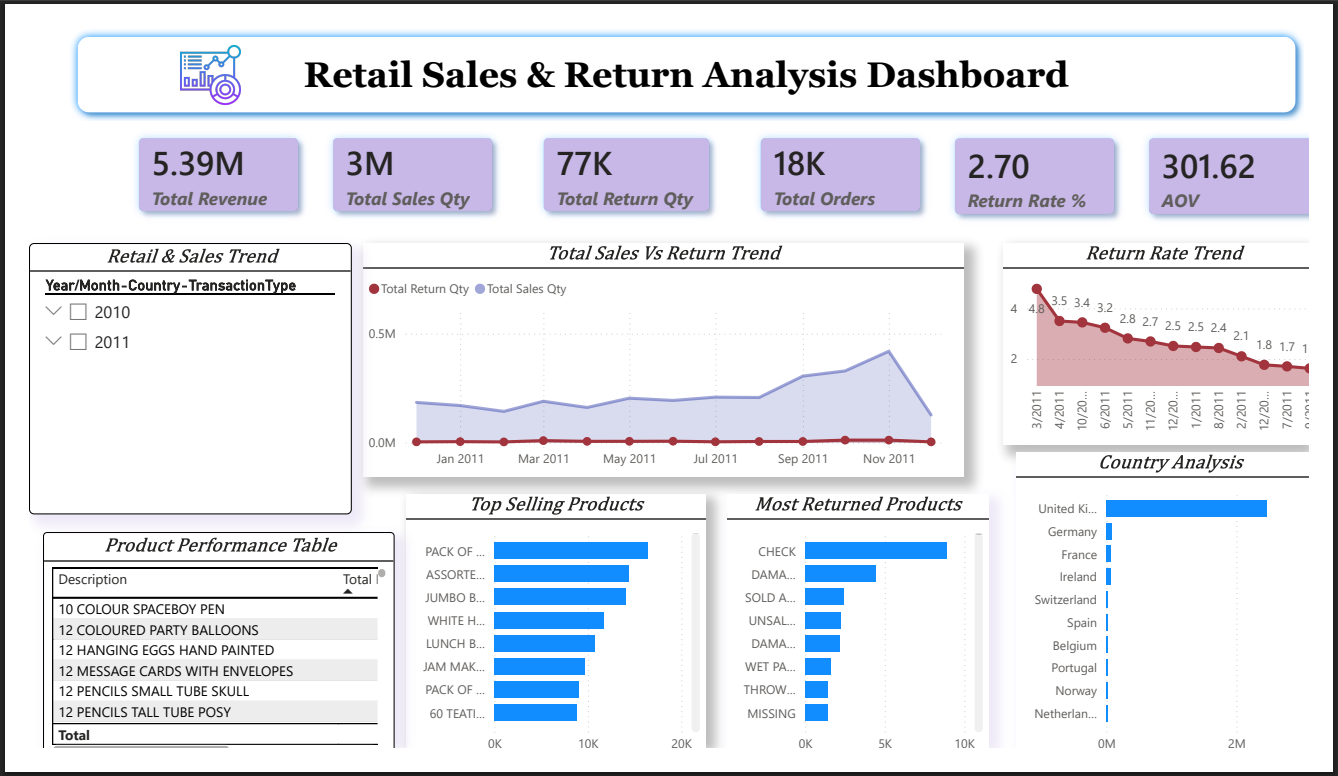

This screenshot's page, from the dashboard's own definition file:
{"tool":"powerbi","page":{"name":"Page 1","canvas":[1280,720],"ordinal":0},"visuals":[{"type":"cardVisual","fields":{"Data":["Fact_Sales.Total Sales Qty"]},"box":[279.1,90.5,188.7,104.1],"z":0},{"type":"lineChart","title":"Total Sales Vs Return Trend","fields":{"Y":["Fact_Sales.Total Return Qty","Fact_Sales.Total Sales Qty"],"Category":["Fact_Sales.InvoiceDate.Variation.Date Hierarchy.Year","Fact_Sales.InvoiceDate.Variation.Date Hierarchy.Quarter","Fact_Sales.InvoiceDate.Variation.Date Hierarchy.Month"]},"box":[324.9,209.1,583.6,226.6],"z":1000},{"type":"lineChart","title":"Return Rate Trend","fields":{"Category":["Fact_Sales.YearMonth"],"Y":["Fact_Sales.Return Rate %"]},"box":[947.4,209.1,312.2,196.5],"z":2000},{"type":"barChart","title":"Top Selling Products","fields":{"Category":["Fact_Sales.Description"],"Y":["Fact_Sales.Total Sales Qty"]},"box":[366.7,453.3,290.8,259.7],"z":3000},{"type":"tableEx","title":"Product Performance Table","fields":{"Values":["Fact_Sales.Description","Fact_Sales.Total Return Qty","Fact_Sales.Total Sales Qty","Fact_Sales.Return Rate %"]},"box":[13.6,490.2,342.4,222.7],"z":4000},{"type":"shape","title":"Retail Sales & Return Analysis Dashboard","box":[38.9,0,1201.2,90.5],"z":5000},{"type":"image","box":[140.1,15.6,72.9,60.3],"z":6000},{"type":"cardVisual","fields":{"Data":["Fact_Sales.Total Revenue"]},"box":[90.5,90.5,188.7,104.1],"z":7000},{"type":"cardVisual","fields":{"Data":["Fact_Sales.Total Return Qty"]},"box":[484.4,90.5,194.5,104.1],"z":8000},{"type":"cardVisual","fields":{"Data":["Fact_Sales.Total Orders"]},"box":[695.4,90.5,188.7,104.1],"z":9000},{"type":"cardVisual","fields":{"Data":["Fact_Sales.Return Rate %"]},"box":[884.1,90.5,188.7,108],"z":10000},{"type":"cardVisual","fields":{"Data":["Fact_Sales.Average Order Value"]},"box":[1063.1,90.5,196.5,103.1],"z":11000},{"type":"slicer","title":"Retail & Sales Trend","fields":{"Values":["Fact_Sales.InvoiceDate.Variation.Date Hierarchy.Year","Fact_Sales.InvoiceDate.Variation.Date Hierarchy.Month","Fact_Sales.Country","Fact_Sales.TransactionType"]},"box":[0,209.1,314.2,263.6],"z":12000},{"type":"barChart","title":"Country Analysis","fields":{"Category":["Fact_Sales.Country"],"Y":["Fact_Sales.Total Sales Qty"]},"box":[960,412.4,299.6,300.5],"z":13000},{"type":"barChart","title":"Most Returned Products","fields":{"Category":["Fact_Sales.Description"],"Y":["Fact_Sales.Total Return Qty"]},"box":[678.9,453.3,253.9,259.7],"z":14000}]}

Visuals, with their boxes on the page's 1280x720 design canvas (x1, y1, x2, y2). These are canvas units, not pixel positions in the 1338x776 screenshot, which may show the page scaled, cropped or inside an application window:
cardVisual - Fact_Sales.Total Sales Qty: BBox(279, 90, 468, 195)
"Total Sales Vs Return Trend" lineChart: BBox(325, 209, 908, 436)
"Return Rate Trend" lineChart: BBox(947, 209, 1260, 406)
"Top Selling Products" barChart: BBox(367, 453, 658, 713)
"Product Performance Table" tableEx: BBox(14, 490, 356, 713)
"Retail Sales & Return Analysis Dashboard" shape: BBox(39, 0, 1240, 90)
image: BBox(140, 16, 213, 76)
cardVisual - Fact_Sales.Total Revenue: BBox(90, 90, 279, 195)
cardVisual - Fact_Sales.Total Return Qty: BBox(484, 90, 679, 195)
cardVisual - Fact_Sales.Total Orders: BBox(695, 90, 884, 195)
cardVisual - Fact_Sales.Return Rate %: BBox(884, 90, 1073, 198)
cardVisual - Fact_Sales.Average Order Value: BBox(1063, 90, 1260, 194)
"Retail & Sales Trend" slicer: BBox(0, 209, 314, 473)
"Country Analysis" barChart: BBox(960, 412, 1260, 713)
"Most Returned Products" barChart: BBox(679, 453, 933, 713)
